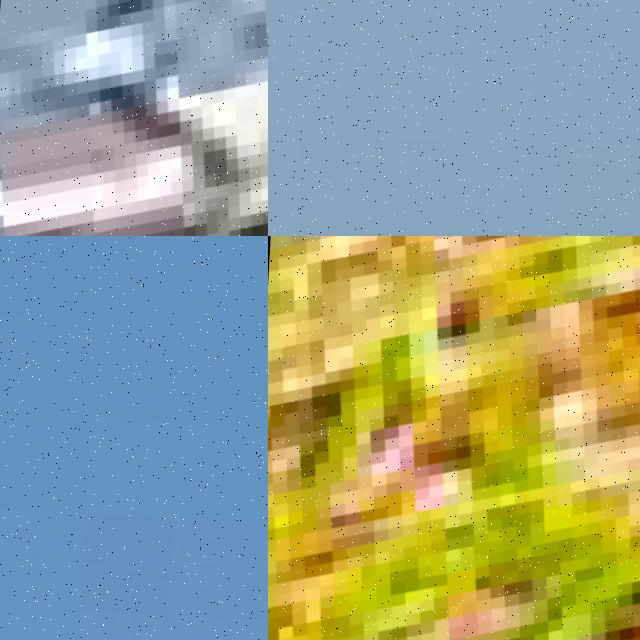0: (0, 0, 268, 236)
drone: (268, 236, 640, 640)
